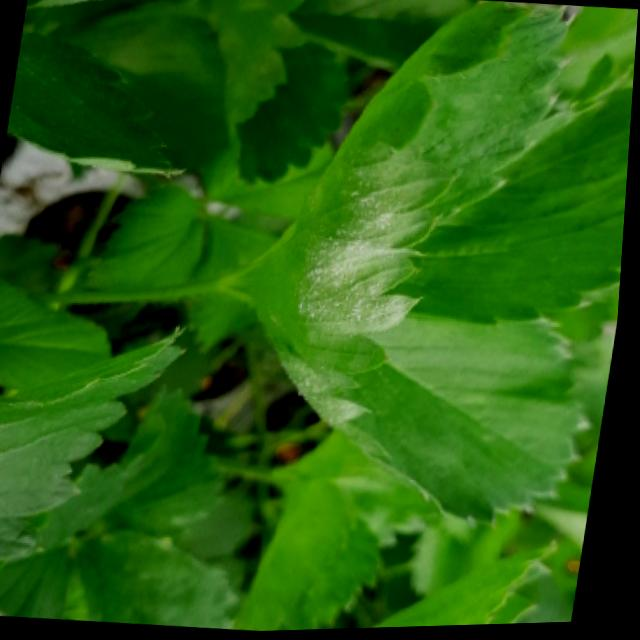Powdery Mildew Leaf: (227, 2, 576, 376), (258, 304, 601, 530)
